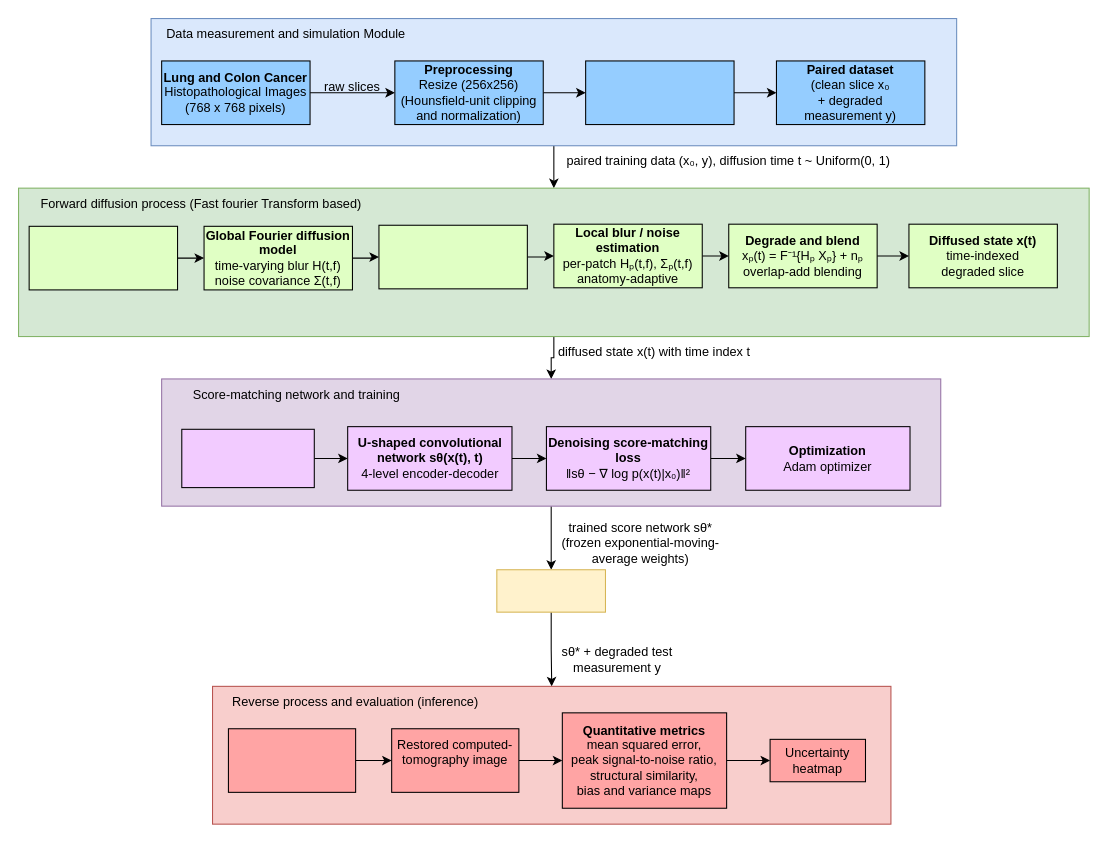
The diagram is 1108 pixels wide and 843 high, and some of its shapes have lost their labels. The shapes that lost their labels are listed below. From the top down, each one's centre as x and y in pixels, then its label:
(659,92): Measurement simulation (Blur via MTF + additive Gaussian noise - NPS)
(103,257): Two-dimensional fast Fourier transform X(f) = F{x₀} unitary, per-slice
(452,256): Patch decomposition (locally adaptive) 64×64 patches, stride 32 Hann window w(p)
(247,458): Time encoder sinusoidal embedding (dimension 128)
(550,590): Trained score network sθ*
(291,760): Reverse diffusion sampler Euler–Maruyama scheme
